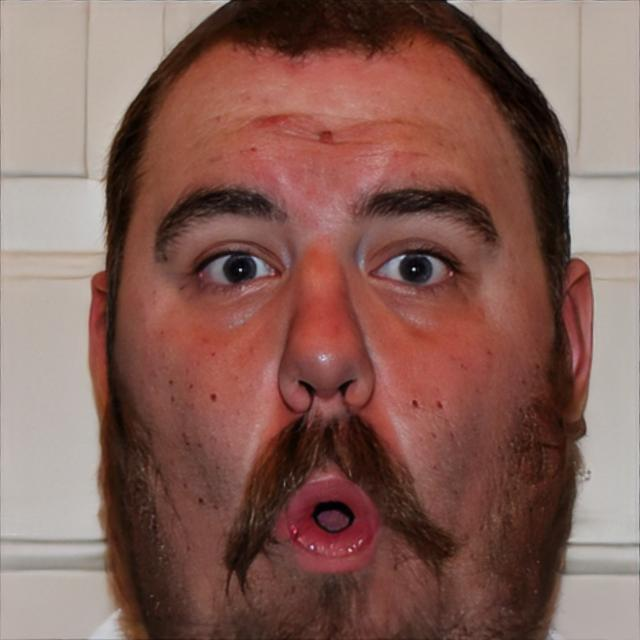fear: (114, 35, 558, 640)
